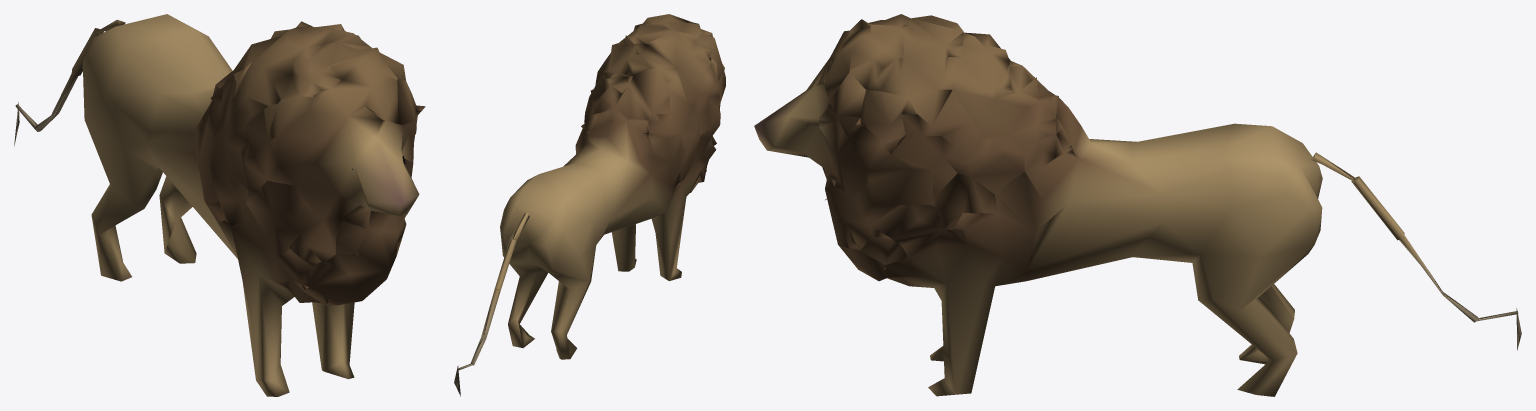
The model's file is loewe.glb.
3 views of the same model, side by side, from view 1: azimuth 30°, elevation 25°; view 2: azimuth 150°, elevation 25°; view 3: azimuth 270°, elevation 25° (orthographic). The views are drawn at different scales.
Parts seen in each view (by area): view 1: lack; view 2: lack; view 3: lack.
Boxes of the visible parts, x1=… form: lack: x1=14, y1=14, x2=425, y2=396; lack: x1=454, y1=14, x2=725, y2=396; lack: x1=754, y1=14, x2=1521, y2=396.
Bounding box in the file's own units: 0.7081 × 1.49 × 2.94.
